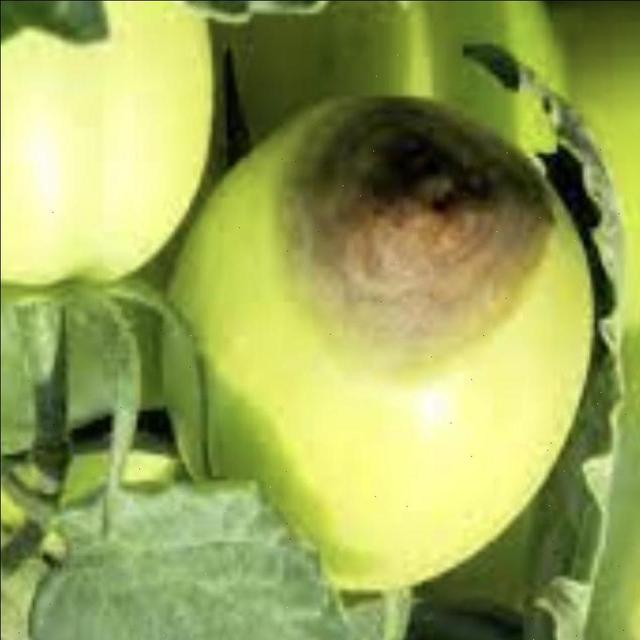Blossom End Rot Fruit: (189, 65, 366, 249)
